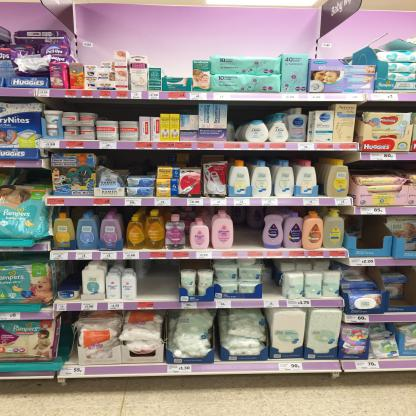Void: (137, 263, 183, 302), (100, 150, 161, 176), (382, 263, 411, 306), (351, 215, 387, 249), (233, 210, 262, 250), (229, 105, 279, 123), (263, 258, 283, 294)
